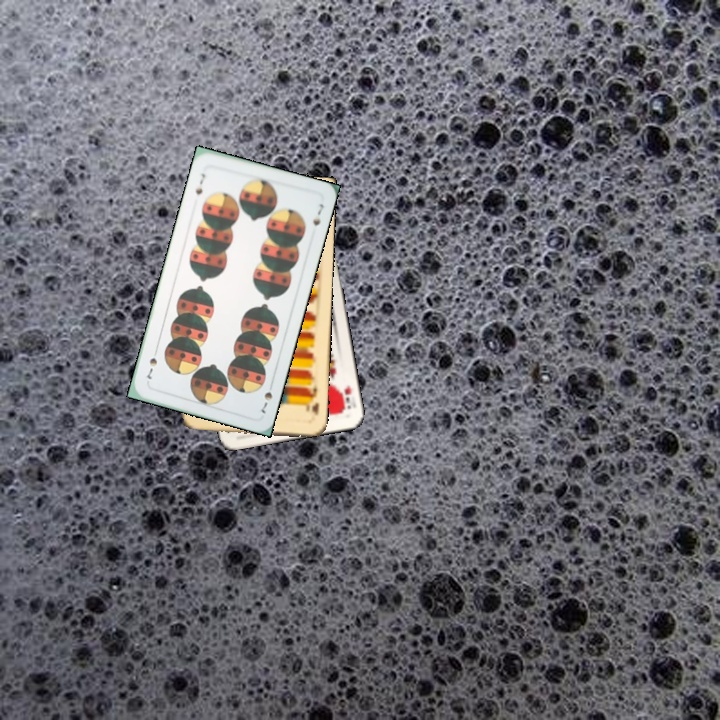E10: (303, 380, 321, 418)
HK: (336, 381, 354, 415)
S7: (257, 378, 276, 416), (191, 169, 208, 197)
